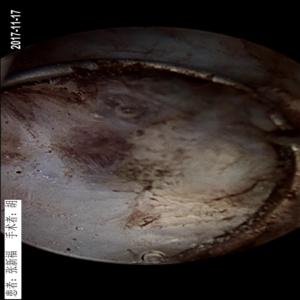film: (20, 85, 182, 205)
